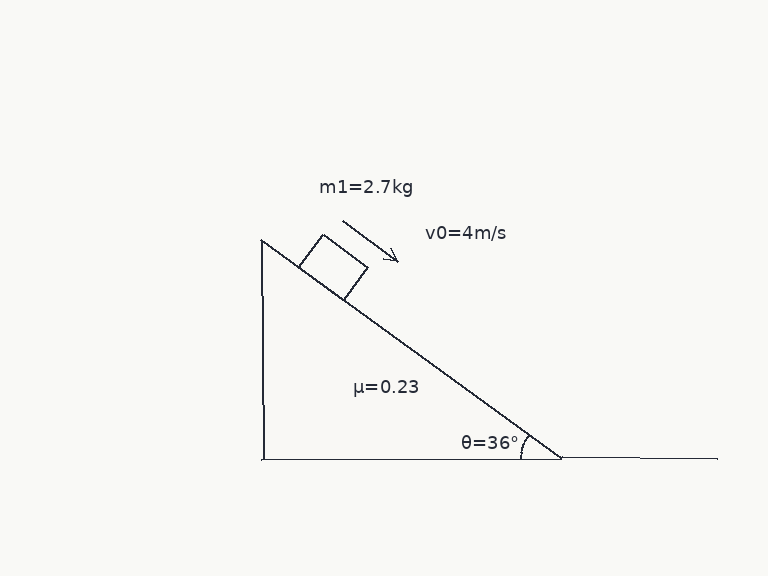block: (296, 232, 369, 302)
ramp: (260, 239, 563, 460)
